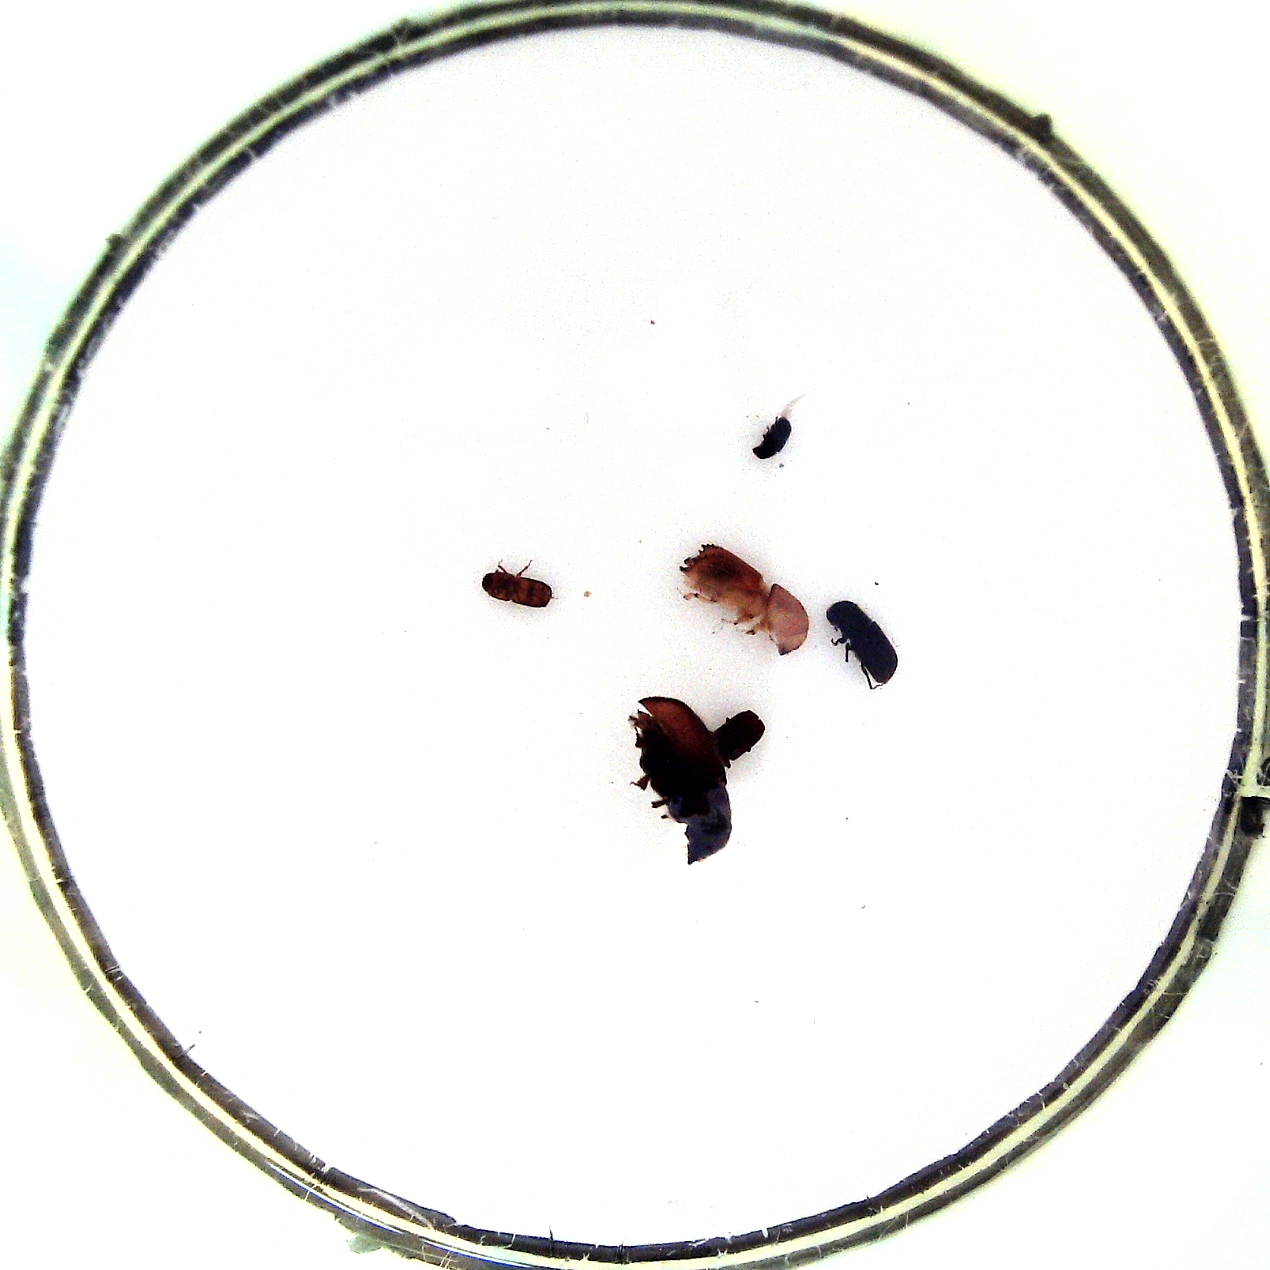Boerner: (675, 547, 809, 655)
Leconte: (622, 691, 733, 868)
acuminatus: (477, 561, 554, 622)
armandi: (822, 594, 907, 698)
coleoptera: (750, 404, 802, 466)
